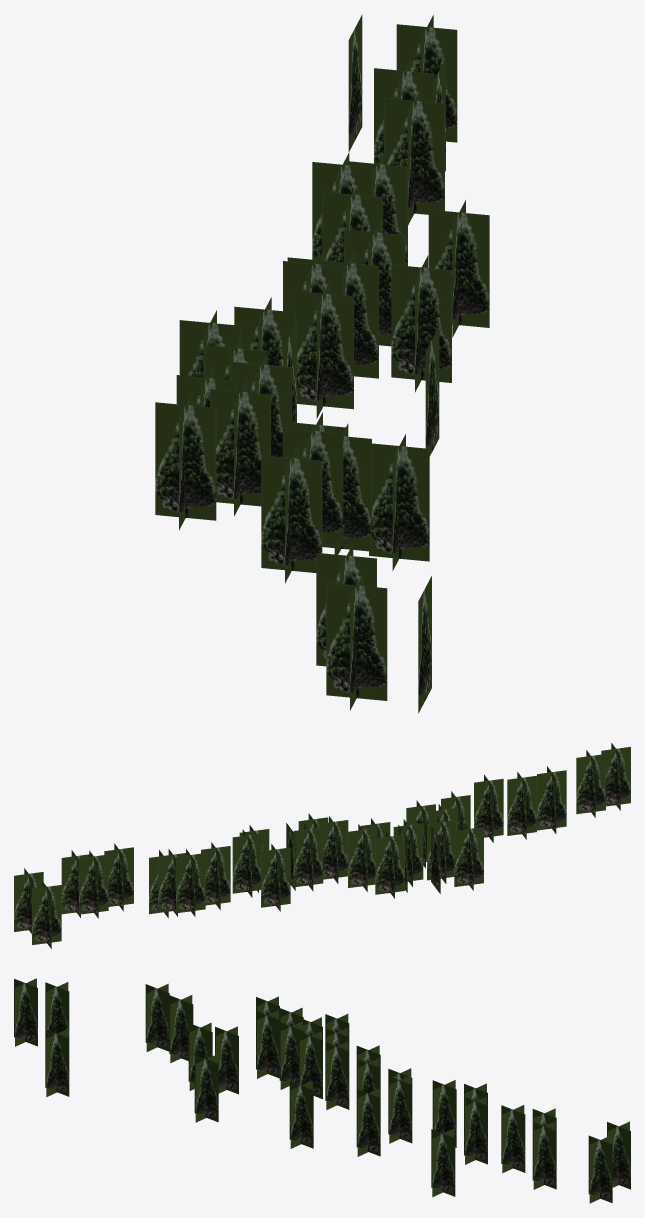
The model's file is RM_PLAYSURFACE_FINAL_INST_PINE_LOD1_74.fbx.
3 renders of one model, top to bottom at view 1: azimuth 30°, elevation 25°; view 2: azimuth 150°, elevation 25°; view 3: azimuth 270°, elevation 25°, orthographic. The views are drawn at different scales.
Visible parts, largest first — view 1: RM_PLAYSURFACE_FINAL_INST_PINE_LOD1_74; view 2: RM_PLAYSURFACE_FINAL_INST_PINE_LOD1_74; view 3: RM_PLAYSURFACE_FINAL_INST_PINE_LOD1_74.
Part boxes in pixels (x1,y1,x2,y2): RM_PLAYSURFACE_FINAL_INST_PINE_LOD1_74: (155,14,489,713); RM_PLAYSURFACE_FINAL_INST_PINE_LOD1_74: (14,743,630,948); RM_PLAYSURFACE_FINAL_INST_PINE_LOD1_74: (14,978,630,1203).
Bounding box in the file's own units: 331135 × 86660 × 513571.
1 material, 1 textured.
